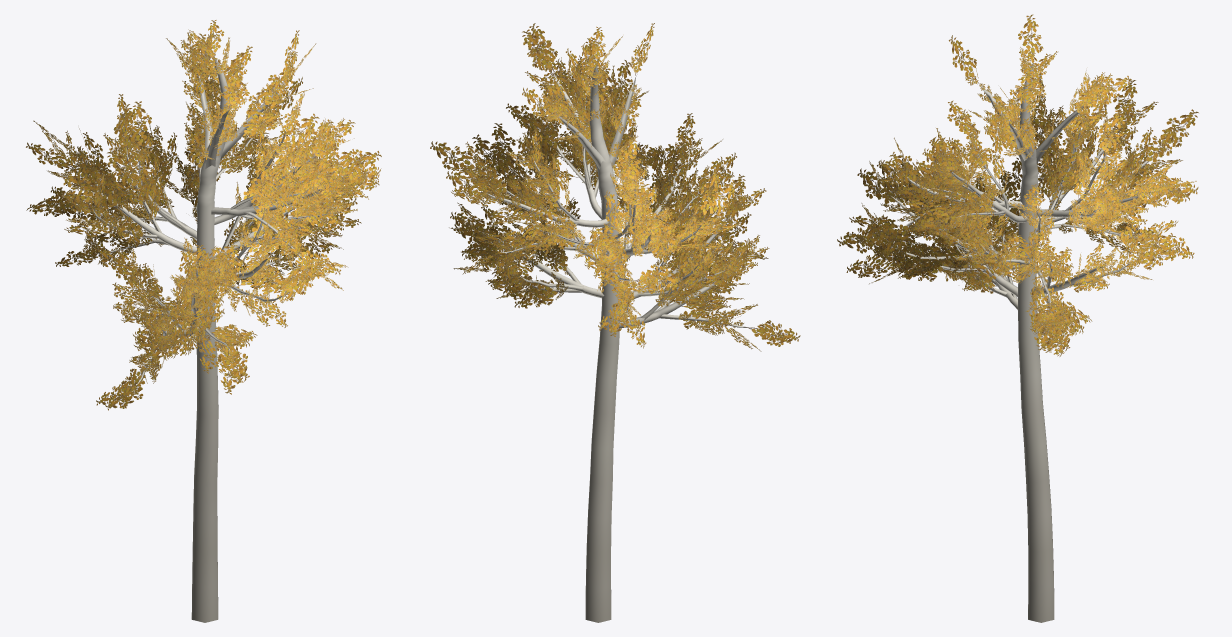
The model's file is aspen.glb.
3 views of the same model, side by side, from view 1: azimuth 30°, elevation 25°; view 2: azimuth 150°, elevation 25°; view 3: azimuth 270°, elevation 25° (orthographic). The views are drawn at different scales.
Parts seen in each view (by area): view 1: Leaves_LOD0, Trunk_LOD0; view 2: Leaves_LOD0, Trunk_LOD0; view 3: Leaves_LOD0, Trunk_LOD0.
Part boxes in pixels (x1,y1,x2,y2): Leaves_LOD0: (26, 20, 381, 410); Trunk_LOD0: (76, 59, 344, 622); Leaves_LOD0: (430, 23, 800, 351); Trunk_LOD0: (480, 65, 753, 622); Leaves_LOD0: (837, 14, 1198, 356); Trunk_LOD0: (890, 63, 1152, 622).
Size of what is drawn, in the model's own units: 2.57 by 4.6 by 2.69.
2 materials, 1 textured.
